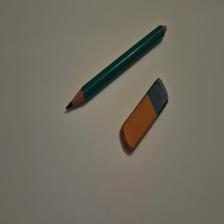eraser: (122, 78, 170, 153)
pencil: (67, 25, 168, 111)
